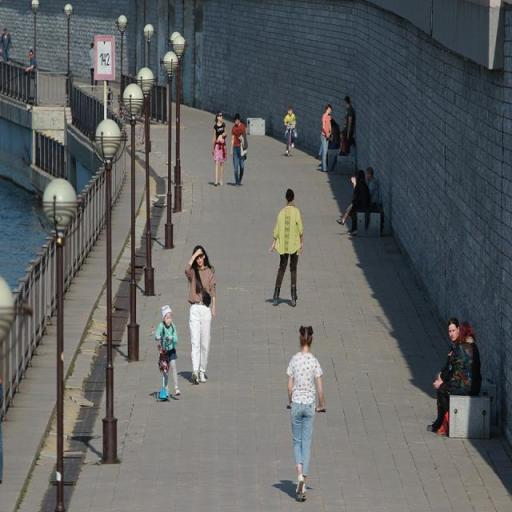person: (288, 323, 328, 501), (426, 313, 481, 434), (186, 246, 217, 386), (271, 189, 306, 310), (338, 167, 386, 227), (228, 110, 260, 191), (156, 306, 181, 399), (349, 168, 369, 238), (214, 112, 228, 189), (319, 103, 334, 174), (345, 98, 359, 156), (284, 108, 298, 156), (88, 44, 101, 92), (26, 50, 42, 77), (1, 29, 14, 61)
